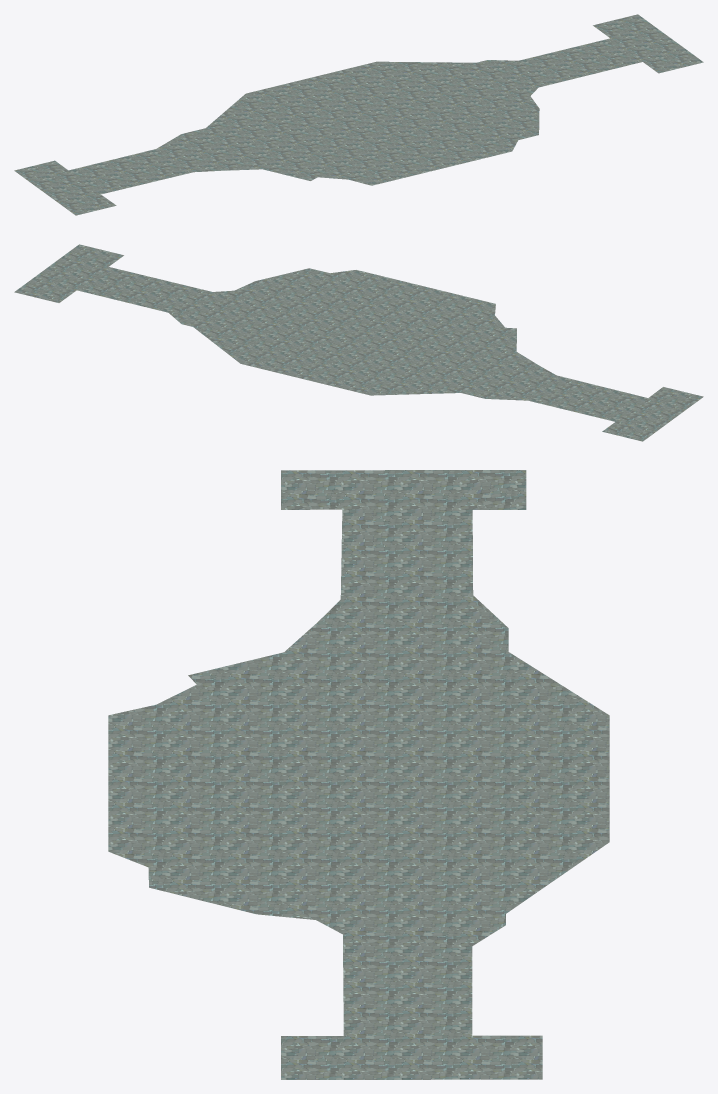
Rendered from Map_06_ground05.FBX.
3 renders of one model, top to bottom at view 1: azimuth 30°, elevation 25°; view 2: azimuth 150°, elevation 25°; view 3: azimuth 270°, elevation 25°, orthographic. The views are drawn at different scales.
Visible parts, largest first — view 1: Map_06_ground05; view 2: Map_06_ground05; view 3: Map_06_ground05.
Part boxes in pixels (box(x1,y1,x2,y2)): Map_06_ground05: box(14, 14, 703, 215); Map_06_ground05: box(14, 244, 703, 441); Map_06_ground05: box(108, 470, 609, 1079).
Bounding box in the file's own units: 21828 × 0.00117 × 7579.
Materials: 1 (1 with a texture image).
